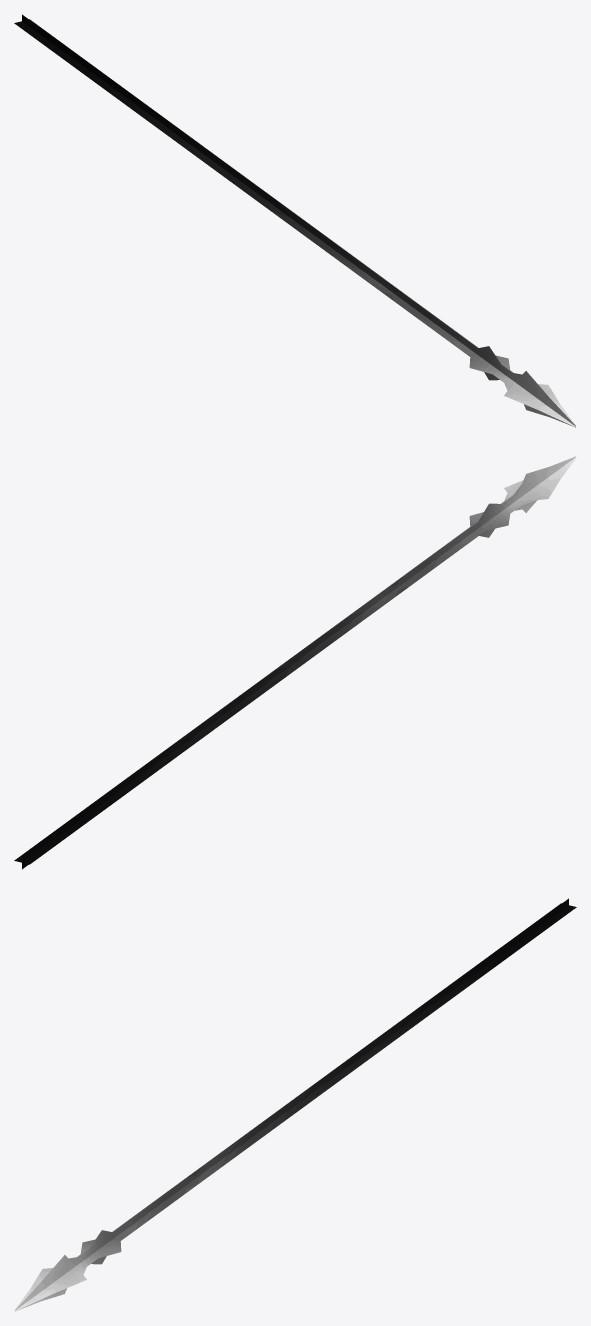
Rendered from proj_arrow_01.fbx.
3 views of the same model, one above another, from view 1: azimuth 30°, elevation 25°; view 2: azimuth 150°, elevation 25°; view 3: azimuth 330°, elevation 25° (orthographic).
Parts seen in each view (by area): view 1: mesh_arrow; view 2: mesh_arrow; view 3: mesh_arrow.
Part boxes in pixels (x1,y1,x2,y2): mesh_arrow: [14, 14, 576, 427]; mesh_arrow: [14, 456, 576, 869]; mesh_arrow: [14, 898, 576, 1311].
Bounding box in the file's own units: 0.1093 × 0.0921 × 2.35.
